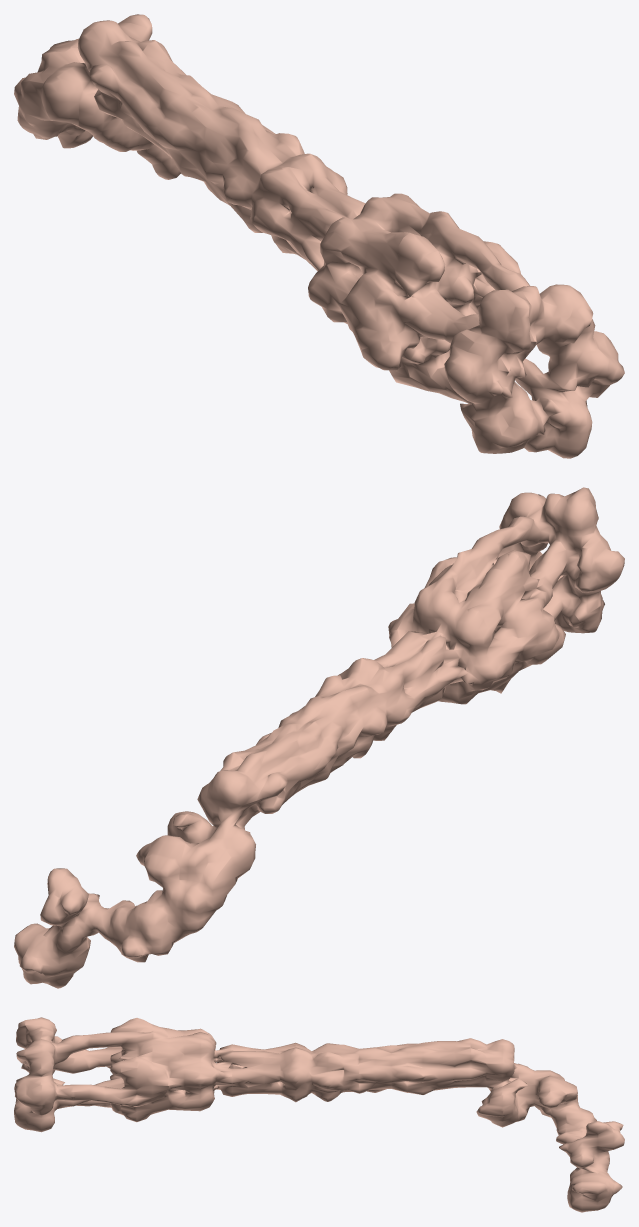
File: hiv_gag_pol.dae
The picture shows the model from 3 angles, top to bottom: view 1: azimuth 30°, elevation 25°; view 2: azimuth 150°, elevation 25°; view 3: azimuth 270°, elevation 25°; orthographic projection. The views are drawn at different scales.
Visible parts, largest first — view 1: CoarseMS_hiv_gag_pol_align_2; view 2: CoarseMS_hiv_gag_pol_align_2; view 3: CoarseMS_hiv_gag_pol_align_2.
Part boxes in pixels (x1=…): CoarseMS_hiv_gag_pol_align_2: x1=14, y1=14, x2=624, y2=458; CoarseMS_hiv_gag_pol_align_2: x1=14, y1=487, x2=624, y2=988; CoarseMS_hiv_gag_pol_align_2: x1=14, y1=1017, x2=624, y2=1212.
Bounding box in the file's own units: 138 × 148 × 527.
